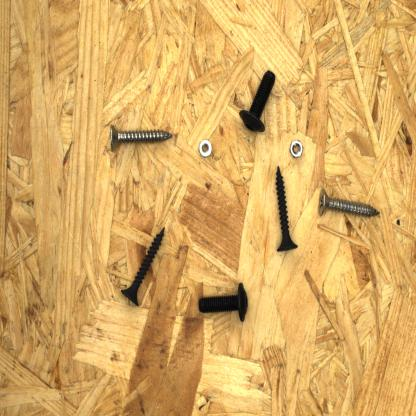screw: (113, 223, 168, 308), (238, 68, 280, 134), (192, 280, 252, 324), (316, 187, 382, 223), (274, 164, 298, 254), (108, 121, 174, 152)
